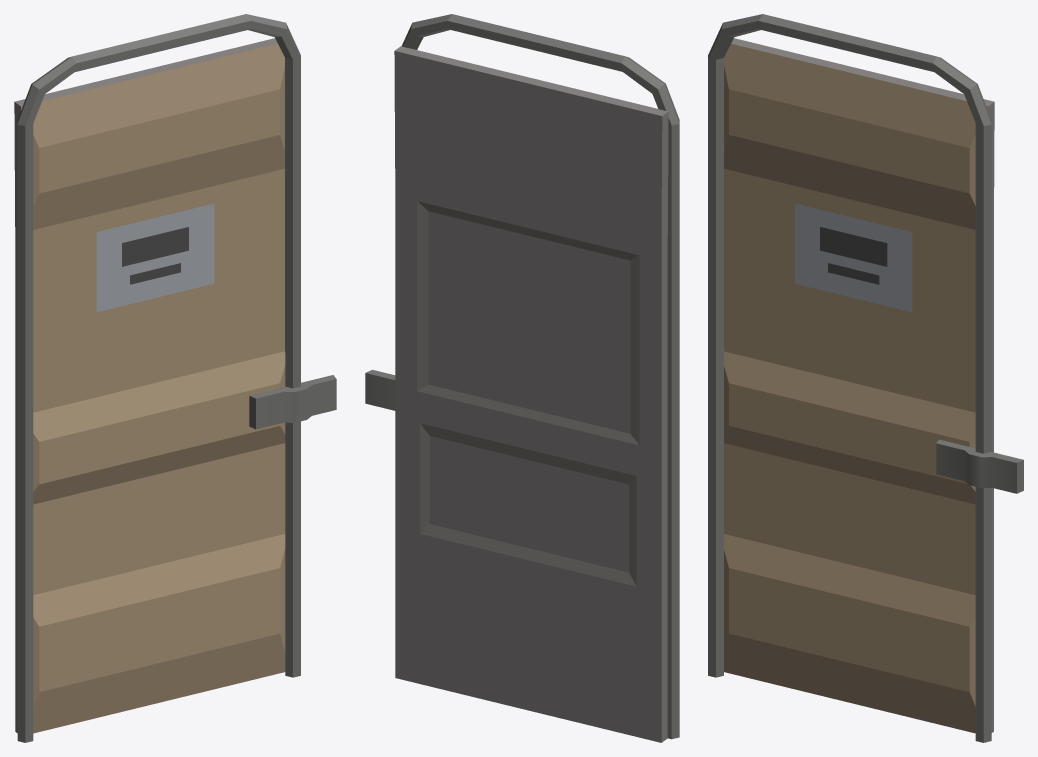
Rendered from SM_Prop_Portaloo_Door_01.fbx.
3 renders of one model, left to right at view 1: azimuth 30°, elevation 25°; view 2: azimuth 150°, elevation 25°; view 3: azimuth 330°, elevation 25°, orthographic.
Parts seen in each view (by area): view 1: SM_Prop_Portaloo_Door_01; view 2: SM_Prop_Portaloo_Door_01; view 3: SM_Prop_Portaloo_Door_01.
Part boxes in pixels (bbox=[...]): SM_Prop_Portaloo_Door_01: bbox=[14, 14, 336, 742]; SM_Prop_Portaloo_Door_01: bbox=[365, 14, 679, 742]; SM_Prop_Portaloo_Door_01: bbox=[708, 14, 1023, 742].
Size of the model in its own units: 124 by 251 by 12.4.
